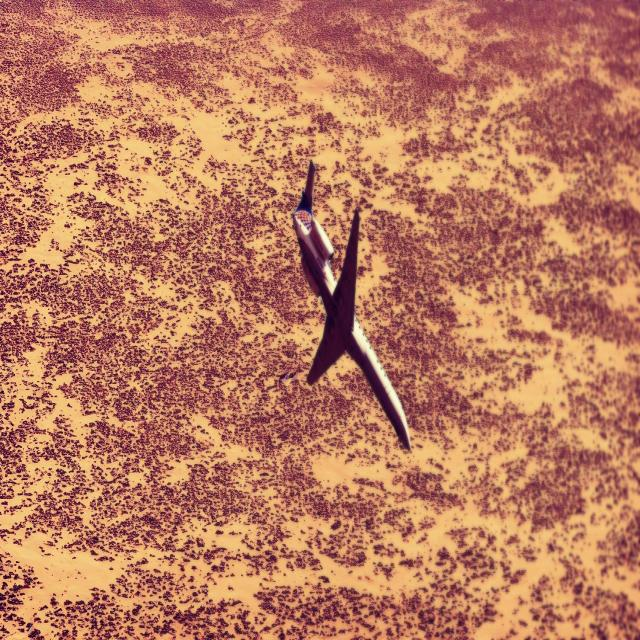airplane: (292, 158, 412, 452)
